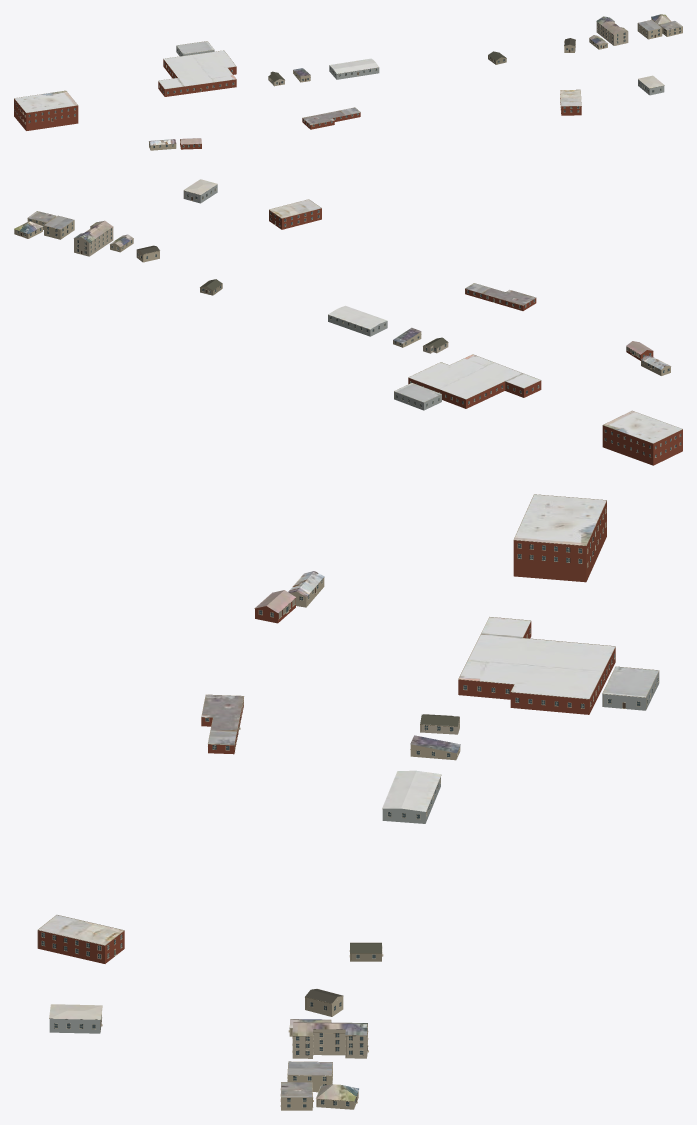
3 renders of one model, top to bottom at view 1: azimuth 30°, elevation 25°; view 2: azimuth 150°, elevation 25°; view 3: azimuth 270°, elevation 25°, orthographic. The views are drawn at different scales.
Parts seen in each view (by area): view 1: 3_1_326848166_0, 3_1_599471683_5, 3_1_599472695_8, 3_1_632644733_42, 3_1_632644729_39; view 2: 3_1_326848166_0, 3_1_599471683_5, 3_1_599472695_8, 3_1_632644733_42, 3_1_632644729_39; view 3: 3_1_326848166_0, 3_1_599471683_5, 3_1_599472695_8, 3_1_632644733_42, 3_1_632644729_39.
Part boxes in pixels (left/top/right/bottom): 3_1_326848166_0: left=14, top=14, right=682, bottom=149; 3_1_599471683_5: left=149, top=18, right=682, bottom=150; 3_1_599472695_8: left=176, top=46, right=664, bottom=95; 3_1_632644733_42: left=268, top=21, right=628, bottom=86; 3_1_632644729_39: left=268, top=38, right=575, bottom=81; 3_1_326848166_0: left=14, top=179, right=682, bottom=465; 3_1_599471683_5: left=14, top=216, right=670, bottom=375; 3_1_599472695_8: left=183, top=184, right=441, bottom=410; 3_1_632644733_42: left=74, top=226, right=448, bottom=353; 3_1_632644729_39: left=137, top=245, right=447, bottom=347; 3_1_326848166_0: left=37, top=494, right=659, bottom=1108; 3_1_599471683_5: left=281, top=578, right=460, bottom=1110; 3_1_599472695_8: left=49, top=671, right=659, bottom=1033; 3_1_632644733_42: left=292, top=717, right=459, bottom=1058; 3_1_632644729_39: left=305, top=714, right=459, bottom=1003.
Size of the model in its own units: 493 by 17.9 by 223.
16 materials, 1 textured.
